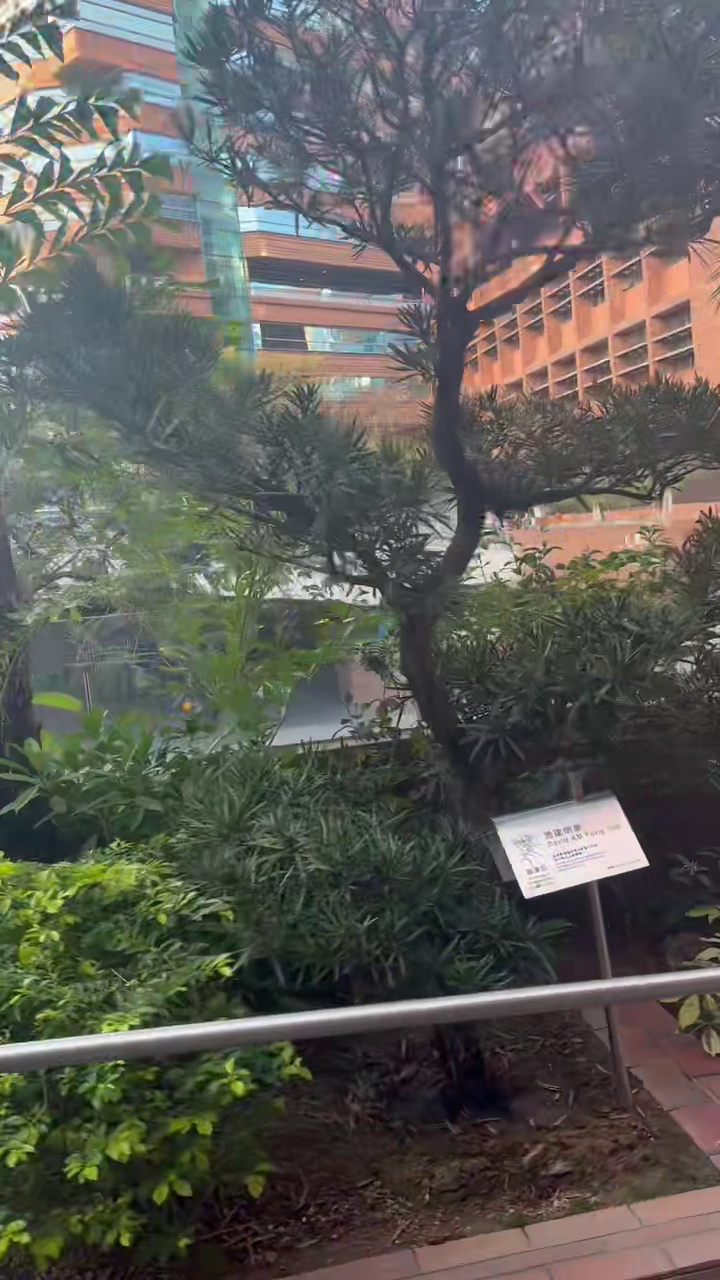Podocarpus macrophyllus: (27, 0, 719, 795)
